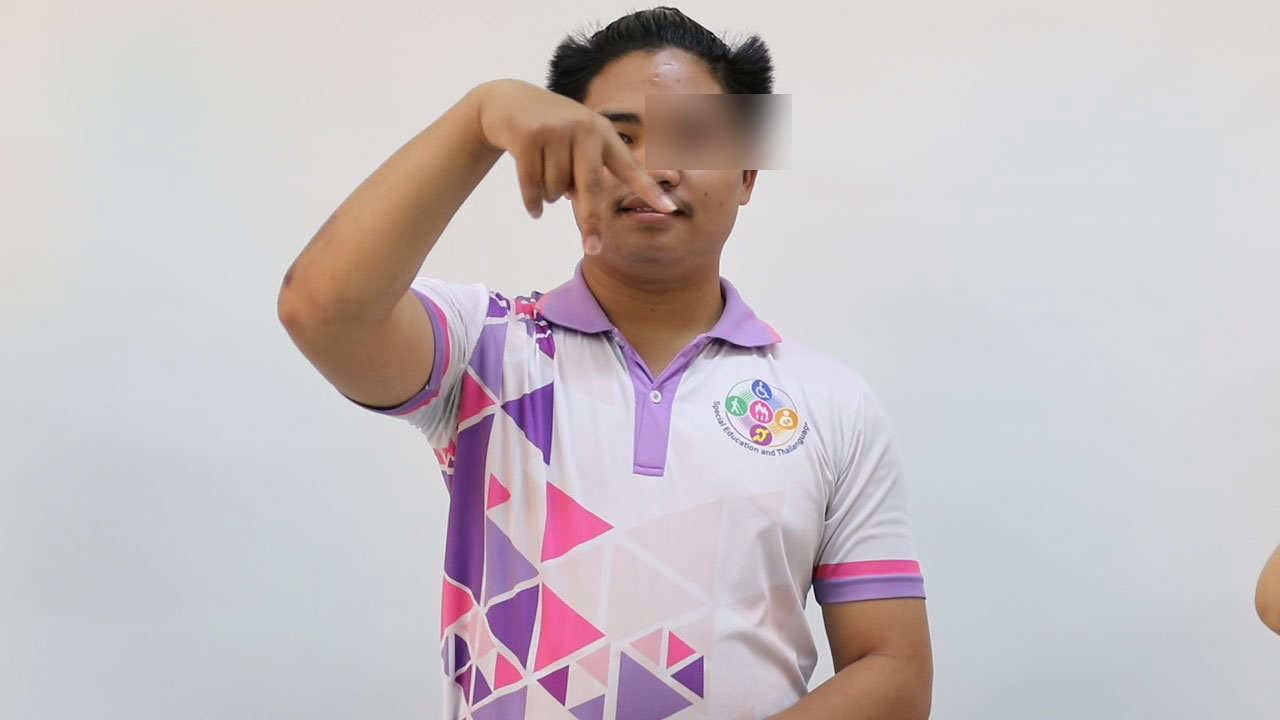por: (465, 61, 683, 259)
